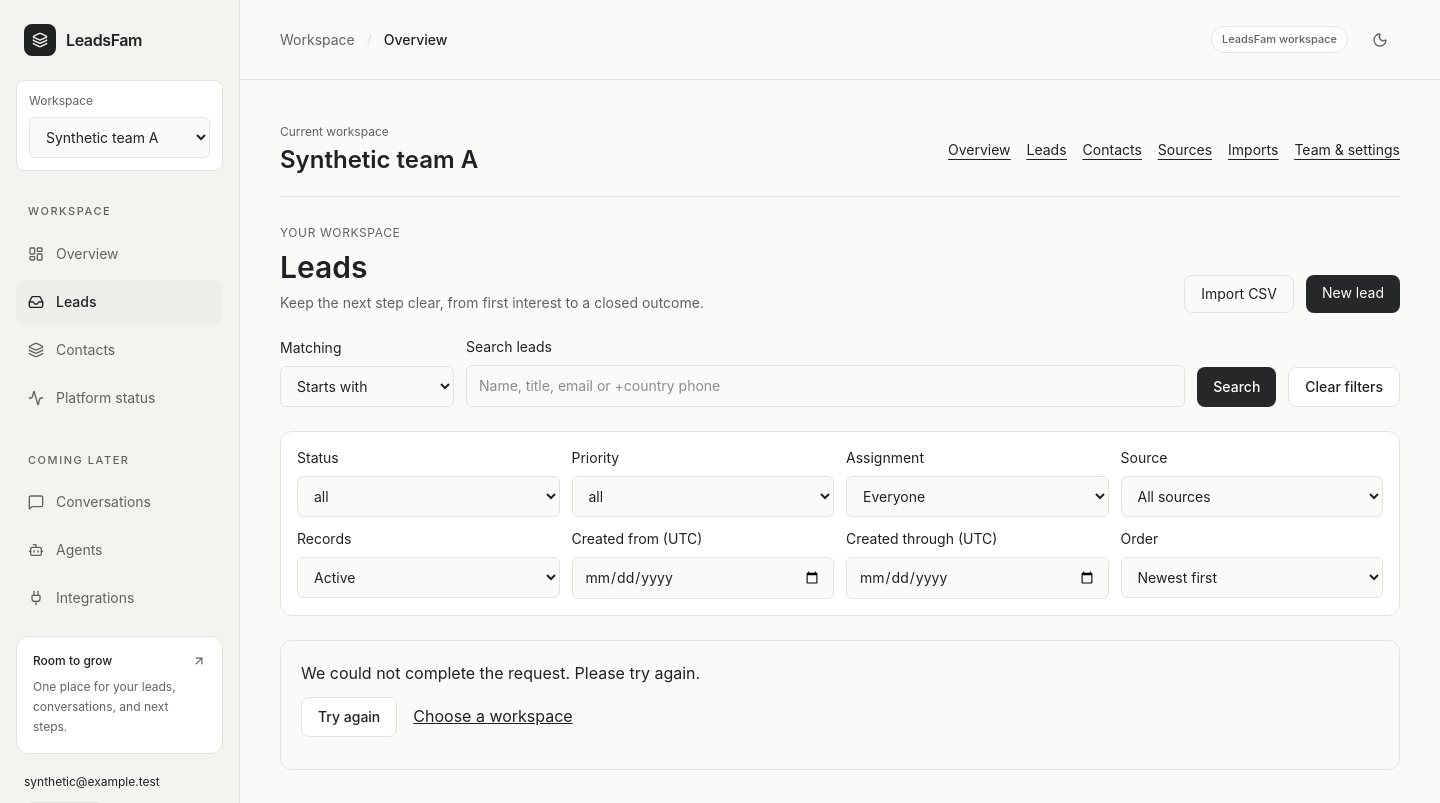
Test: CRM confirmed workflows › shows a retryable failure and an explicit empty state
The image size is (1440, 803).
Expected: the message is shown, 280,640 -> 1400,770
Click the button "Try again" at point(349, 717), box 301,697 -> 397,737
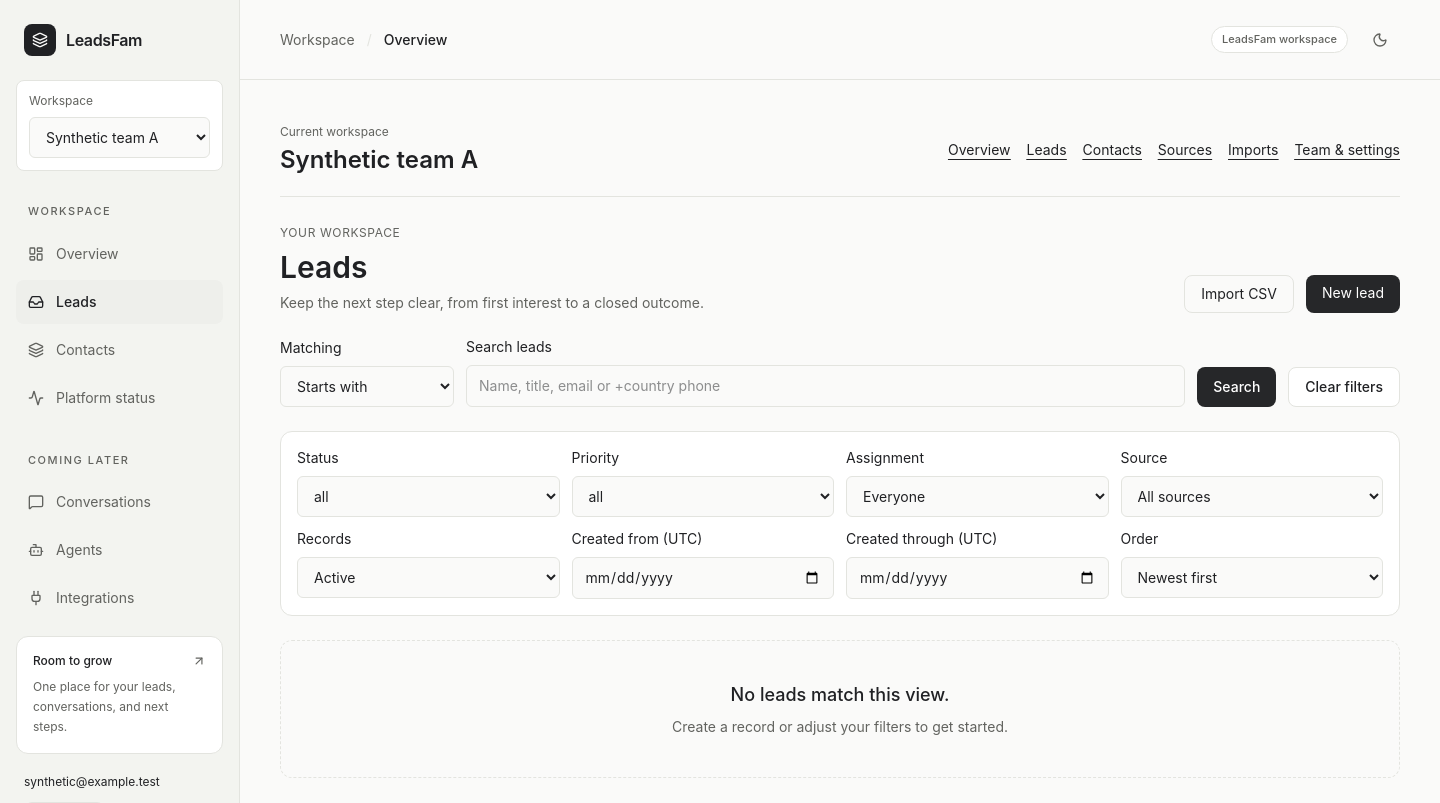
Result: the heading "No leads match this view." is shown at 731,684 -> 949,705
